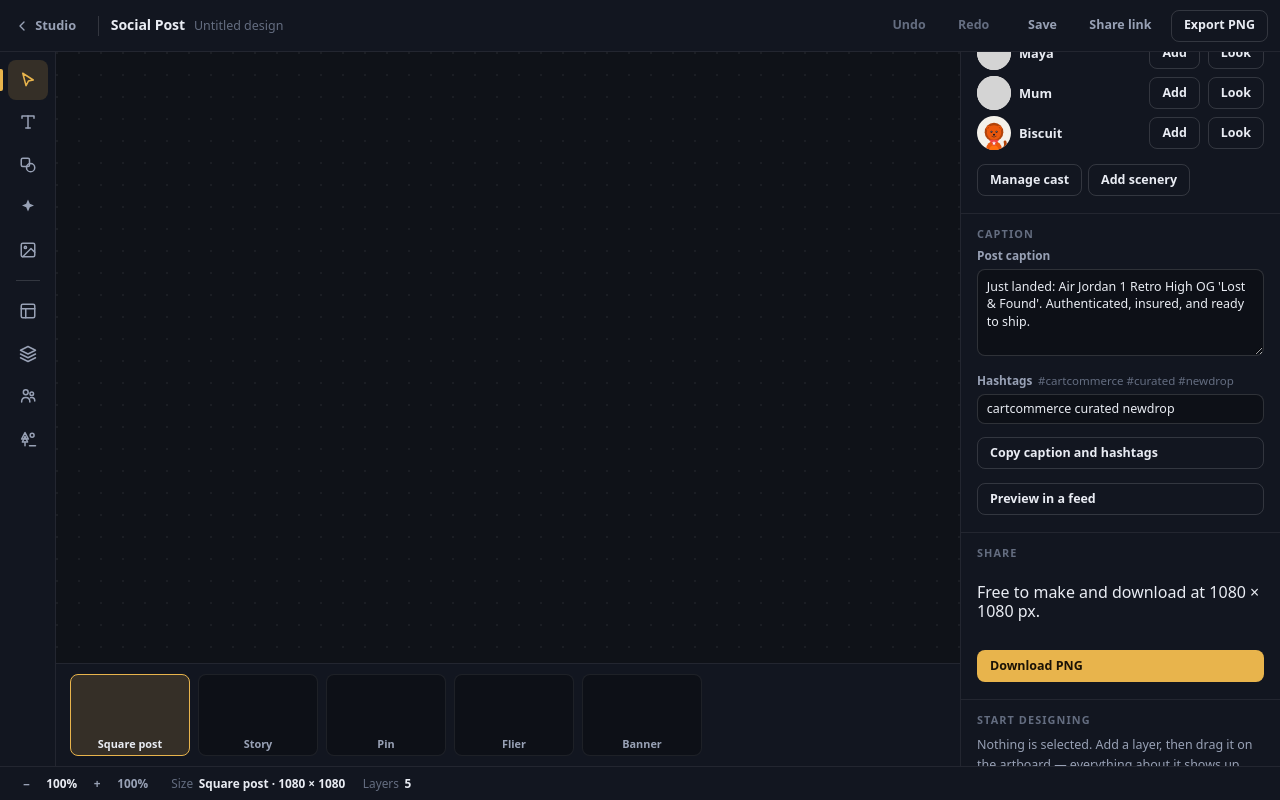
Test case: social post designer › copies the caption with its hashtags and announces it
(page scrolled)
Replace the text in the field labelled "Hashtags" with "summer, drops": (1120, 409) [977,394,1264,424]
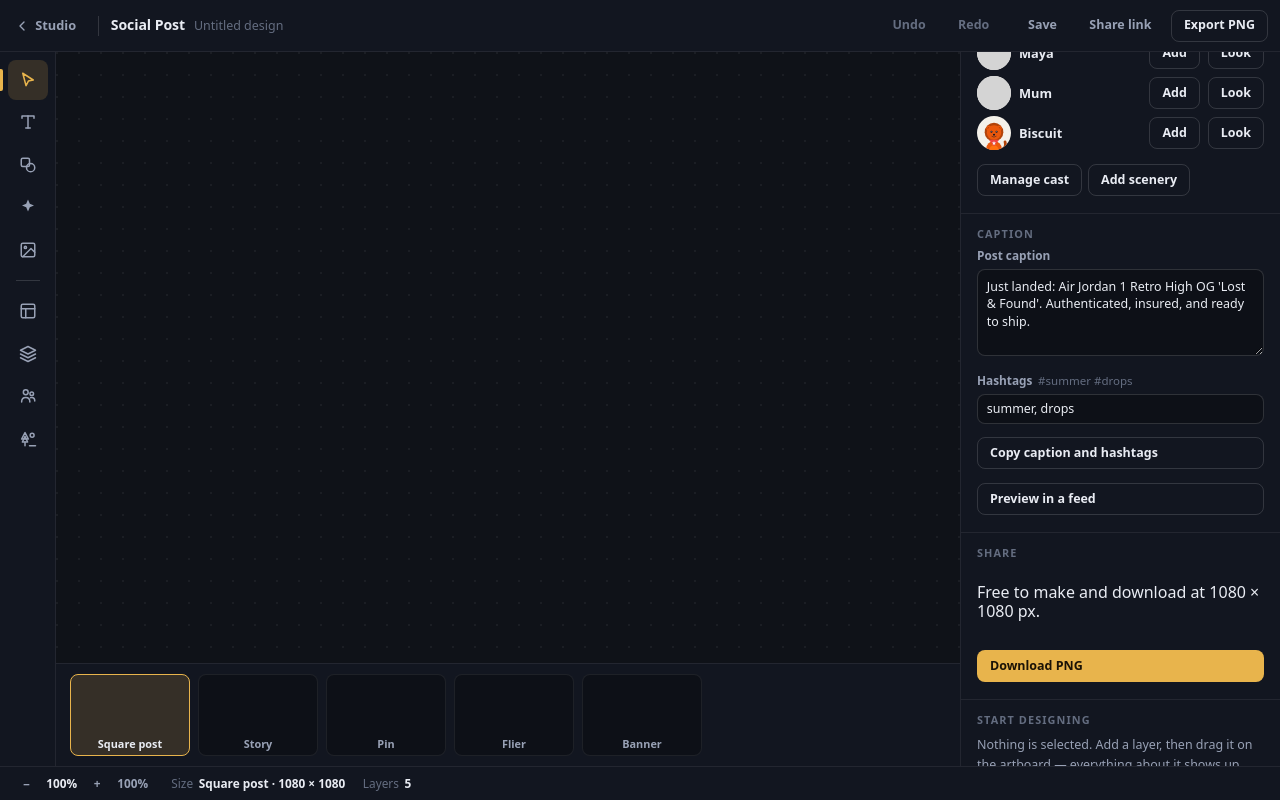
Click the button "Copy caption and hashtags": (1120, 453) [977,437,1264,469]
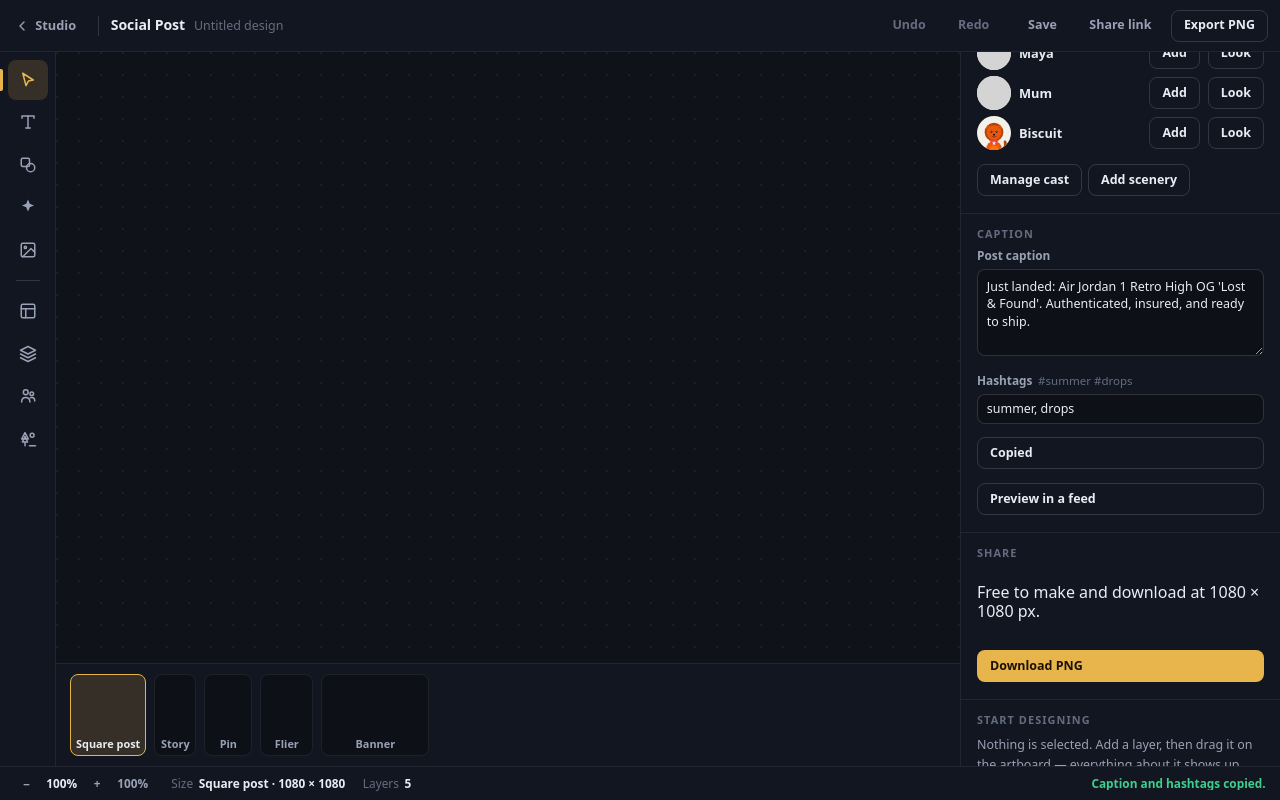
Expected: the button "Copied" is shown, [977,437,1264,469]
